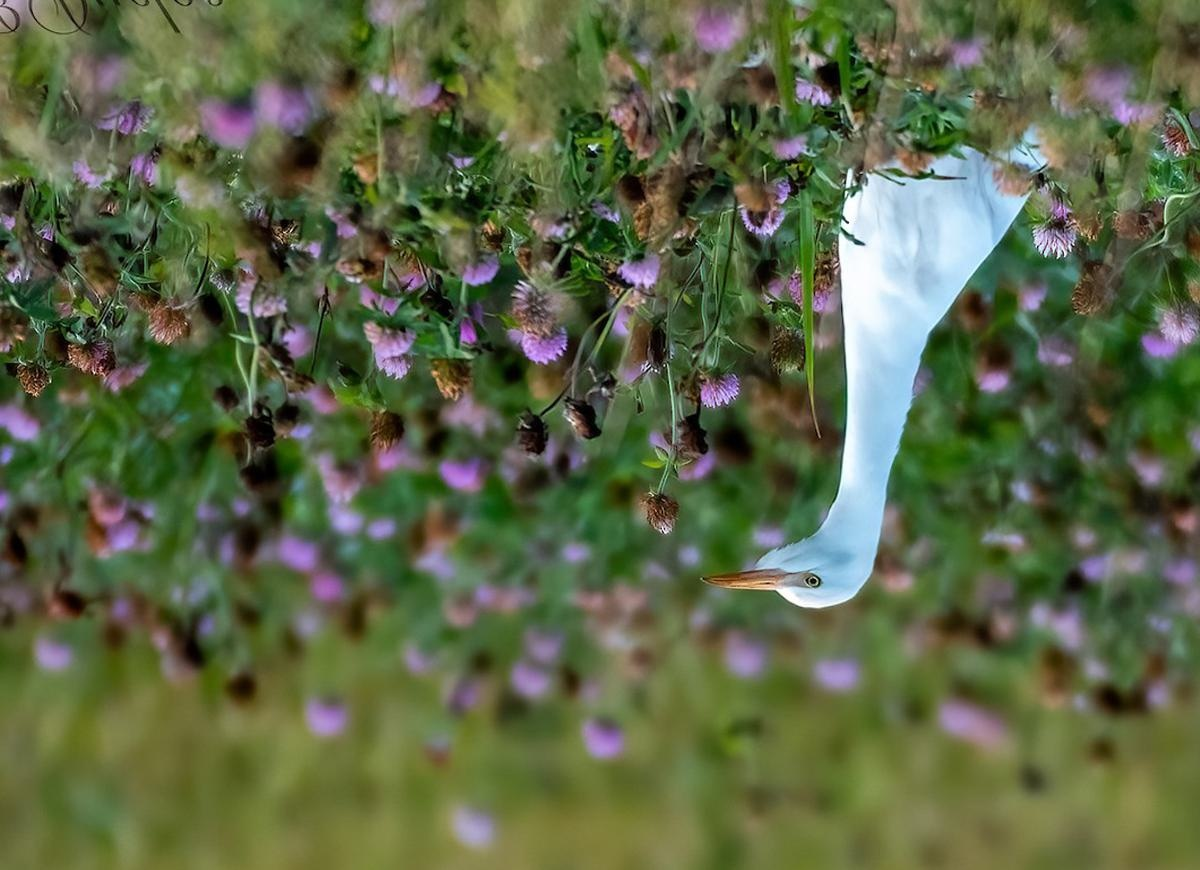egret: (691, 121, 1048, 633)
